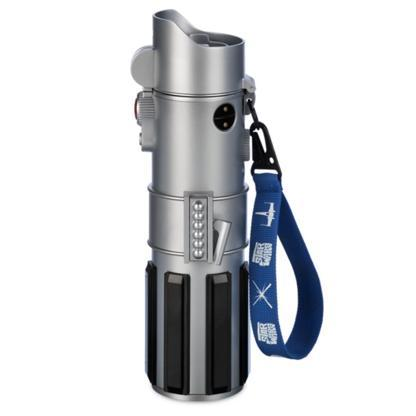lightsaber: (122, 7, 270, 406)
